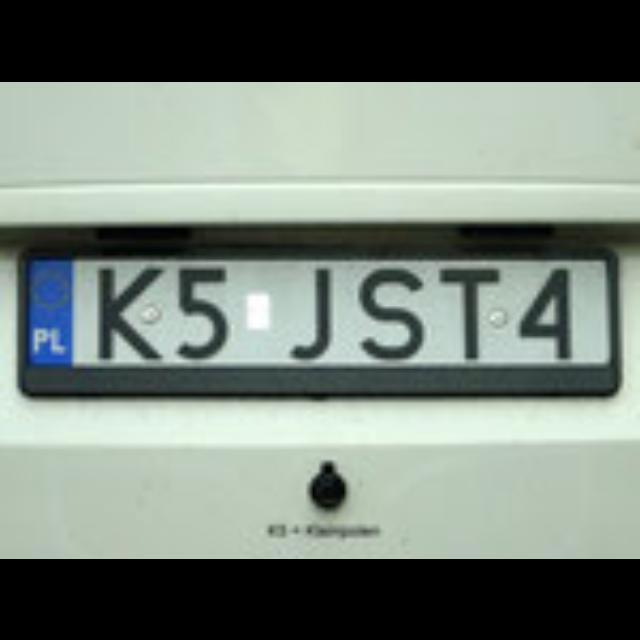license-plates: (20, 253, 620, 396), (552, 44, 640, 55)
